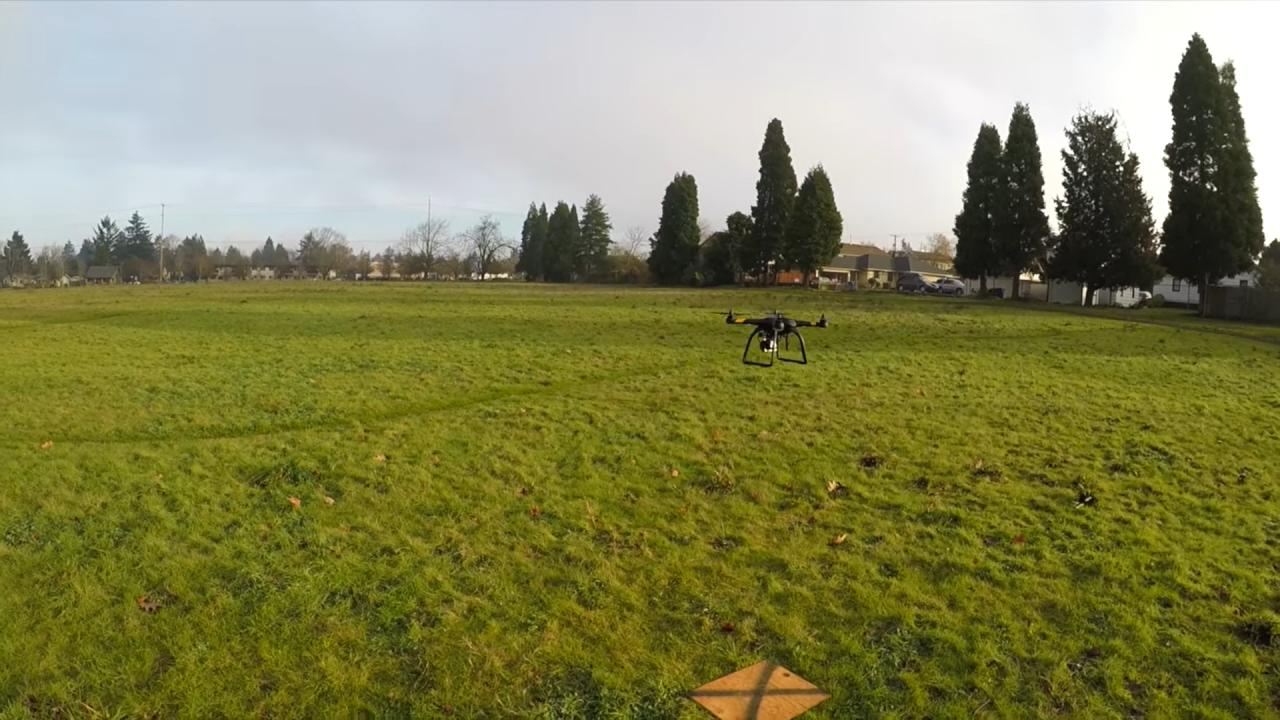Drone: (712, 296, 845, 378)
